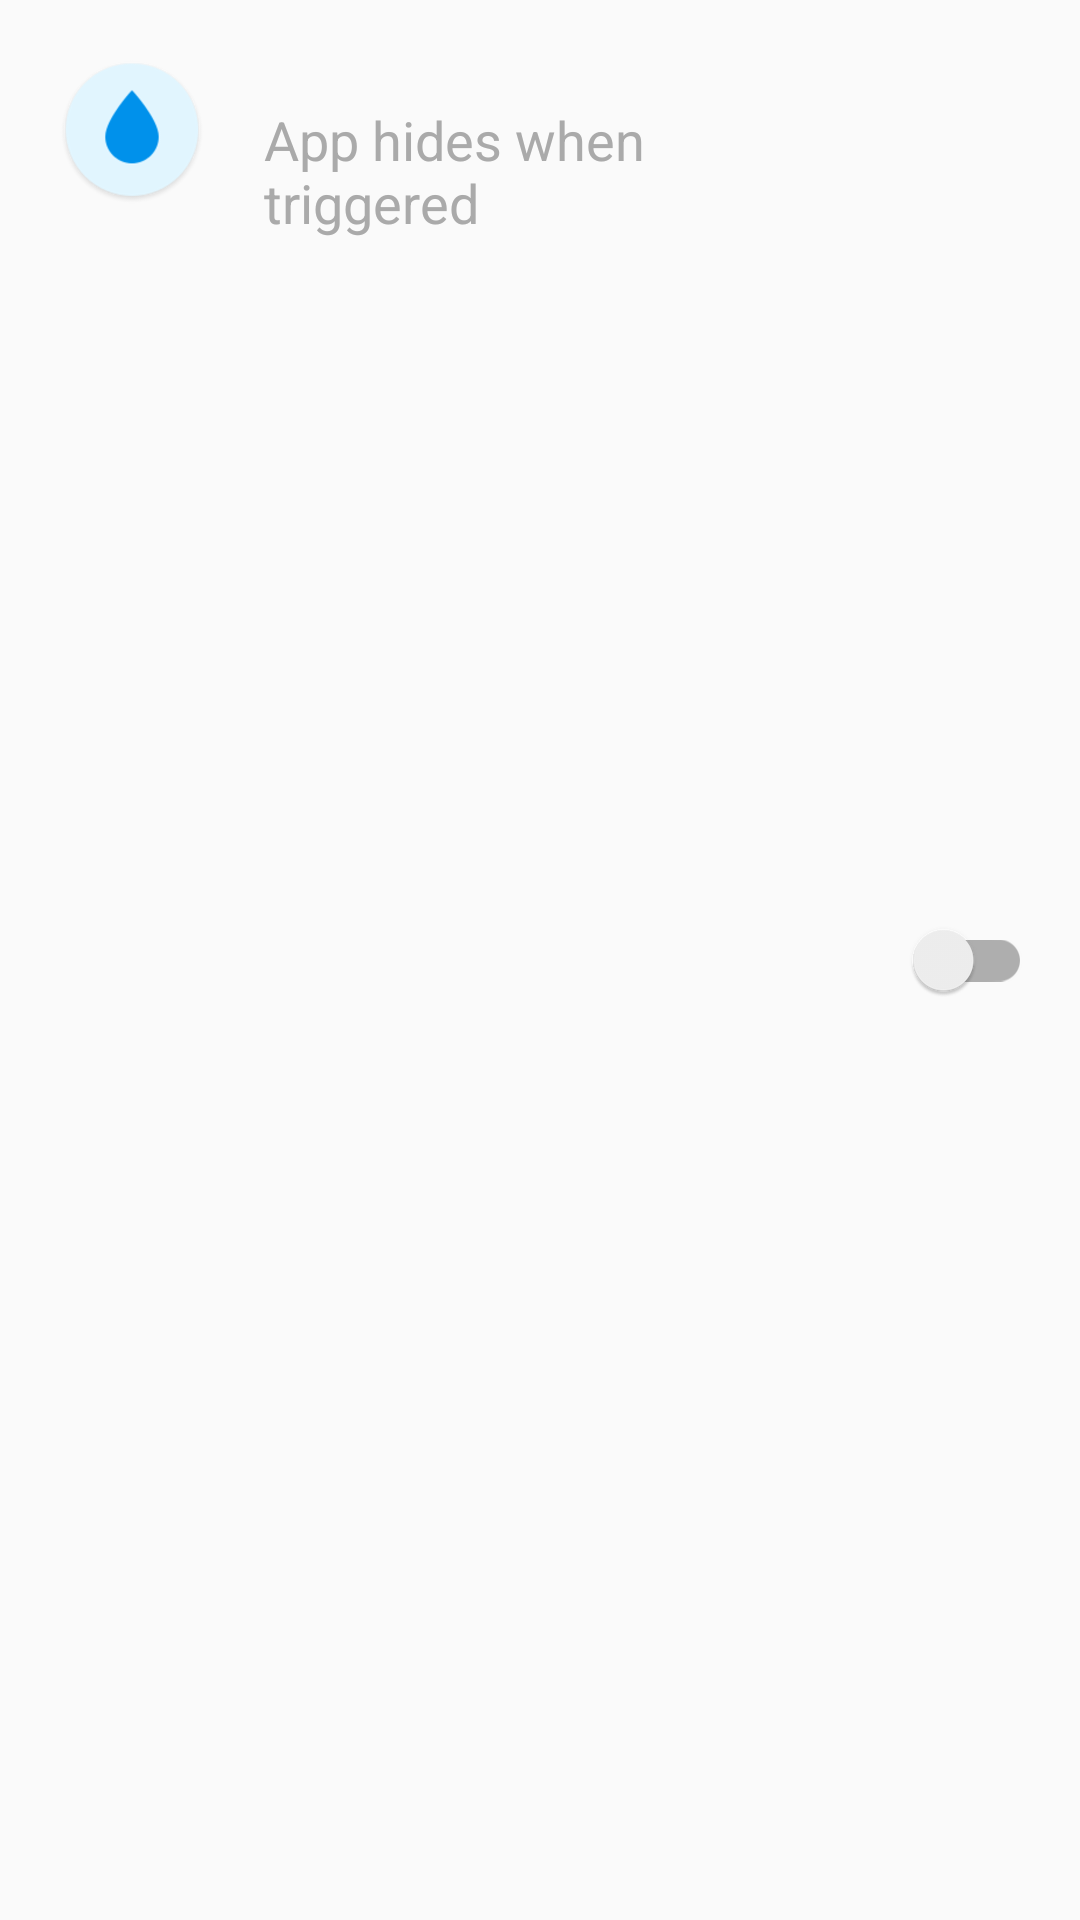

Where icons sit on this 1080x1920 app screen, as bbox(x1, y1, x2, y2):
ripple trigger: bbox(67, 64, 198, 197)
